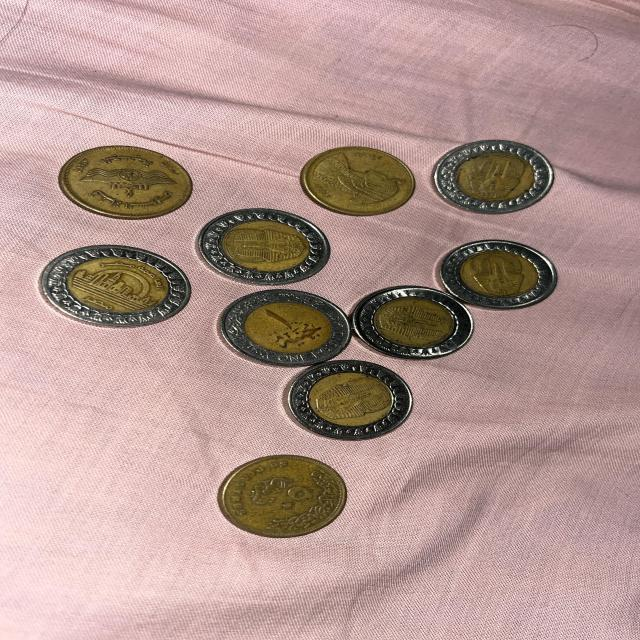Half Pound: (215, 450, 352, 540), (58, 143, 199, 219), (296, 143, 418, 216)
One Pound: (37, 244, 196, 334), (280, 358, 424, 442), (427, 135, 565, 216), (200, 206, 336, 282), (221, 287, 353, 363), (358, 286, 483, 359), (437, 239, 559, 309)
